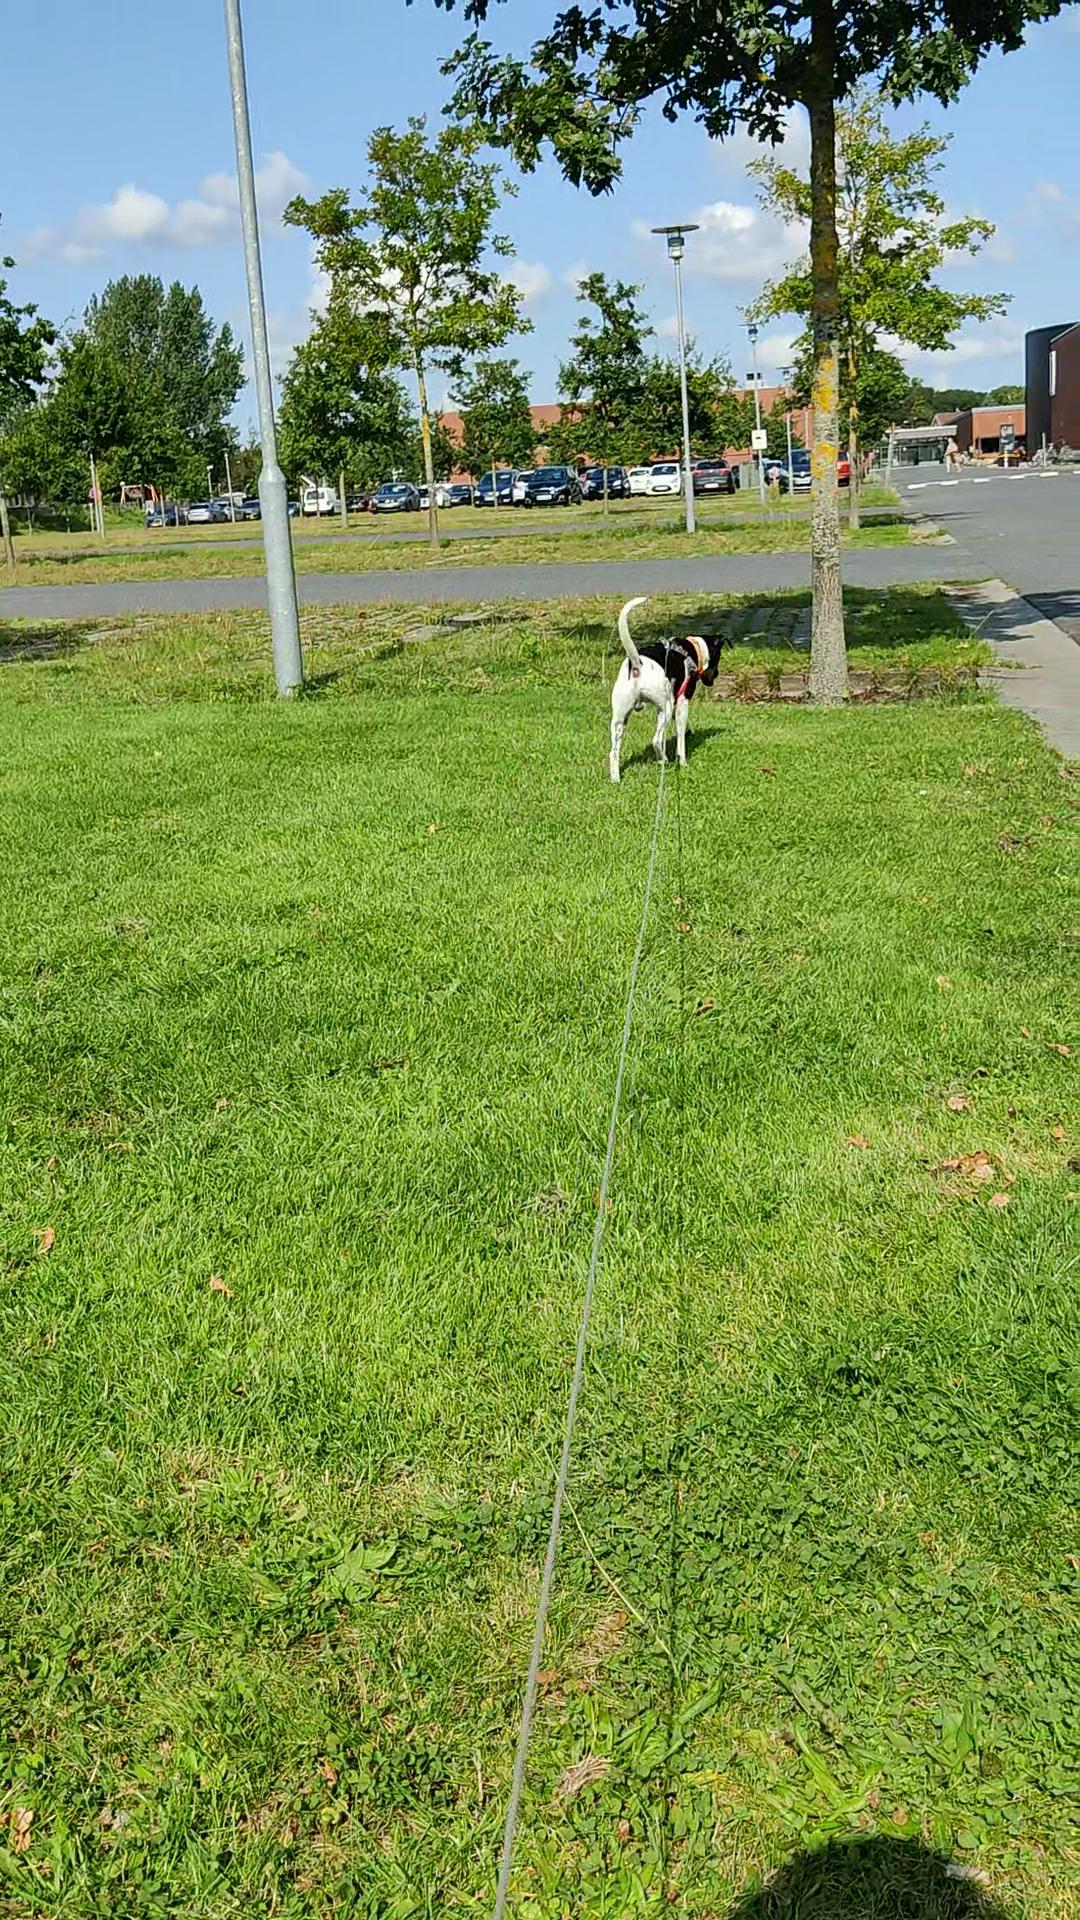Dog: (604, 595, 735, 783)
